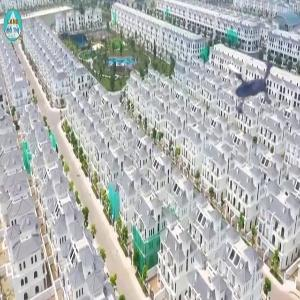drone: (198, 30, 294, 126)
